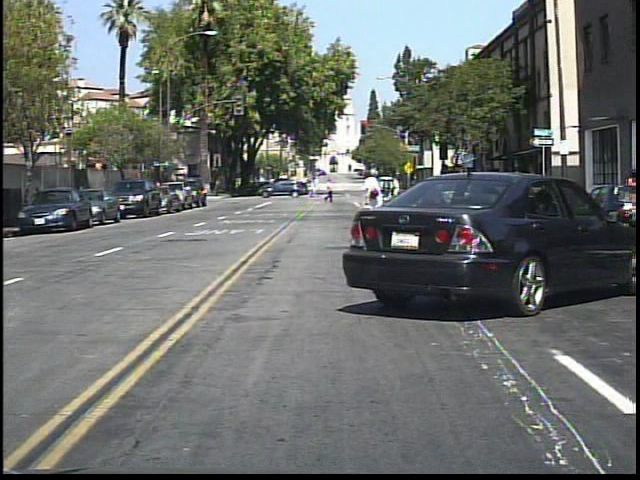person: (358, 164, 391, 240), (621, 164, 639, 232), (514, 164, 534, 221), (386, 169, 407, 203), (322, 176, 338, 206)
